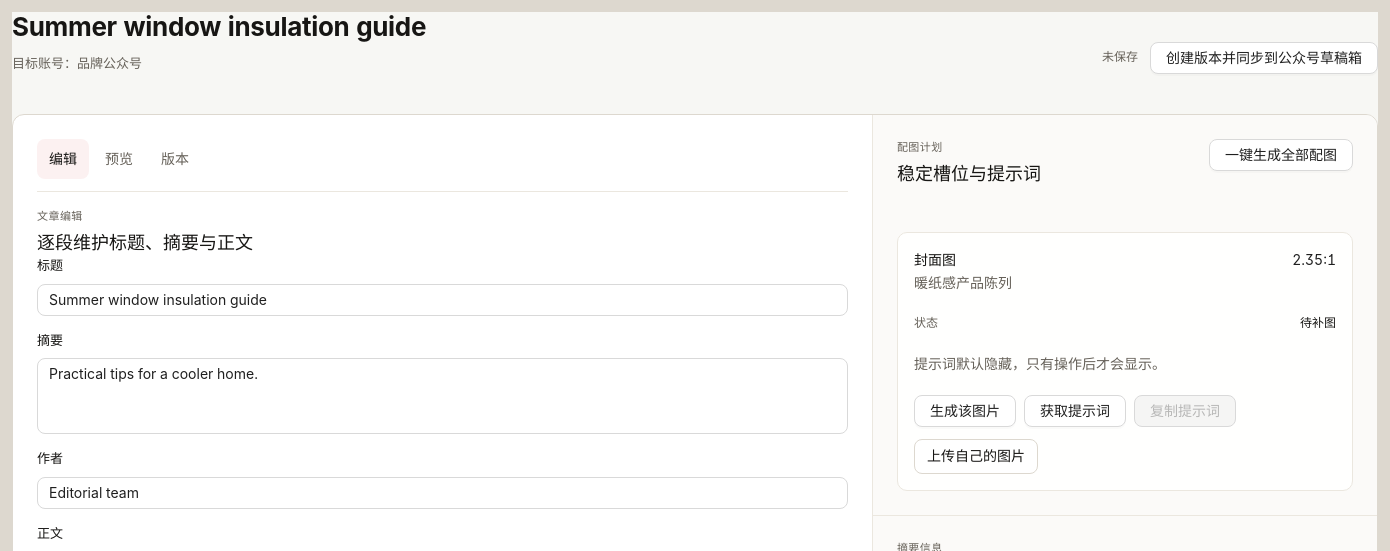
Test: WechatArticleWorkspace › refetches the server copy and restores it when the operator discards local edits after a conflict
Step 1. Replace the text in the field showing "Summer window insulation guide" with "Local draft title" → x=442, y=300, box [37,284,848,316]
Wait 2000 ms
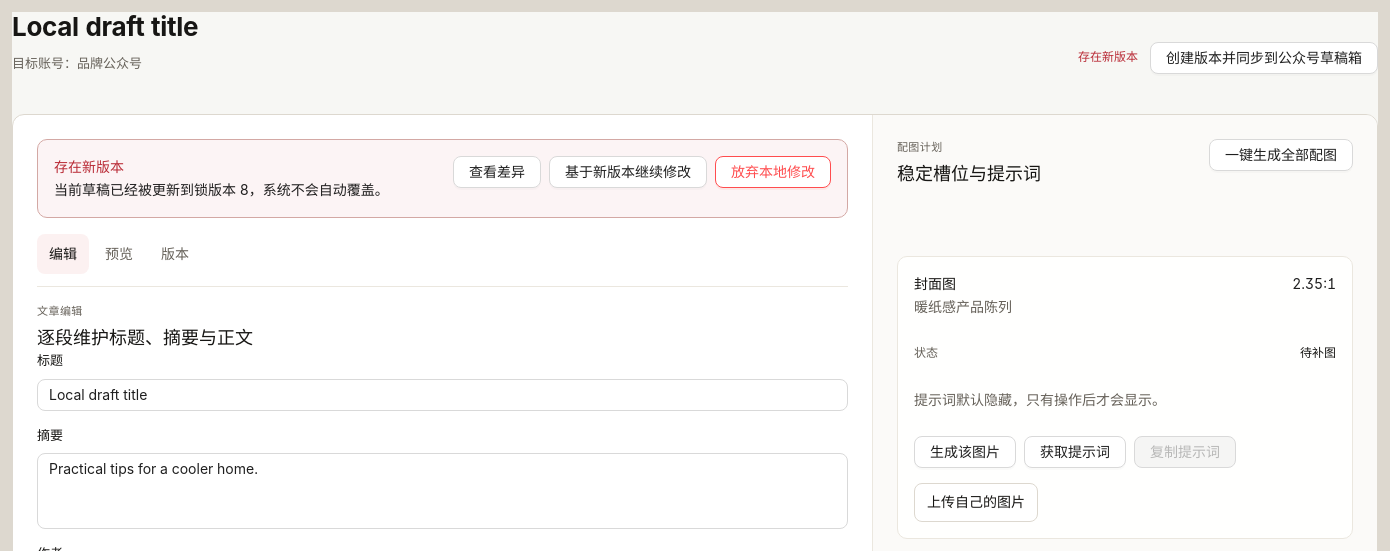
Step 2. Click the button "放弃本地修改" → x=773, y=172, box [715,156,831,188]
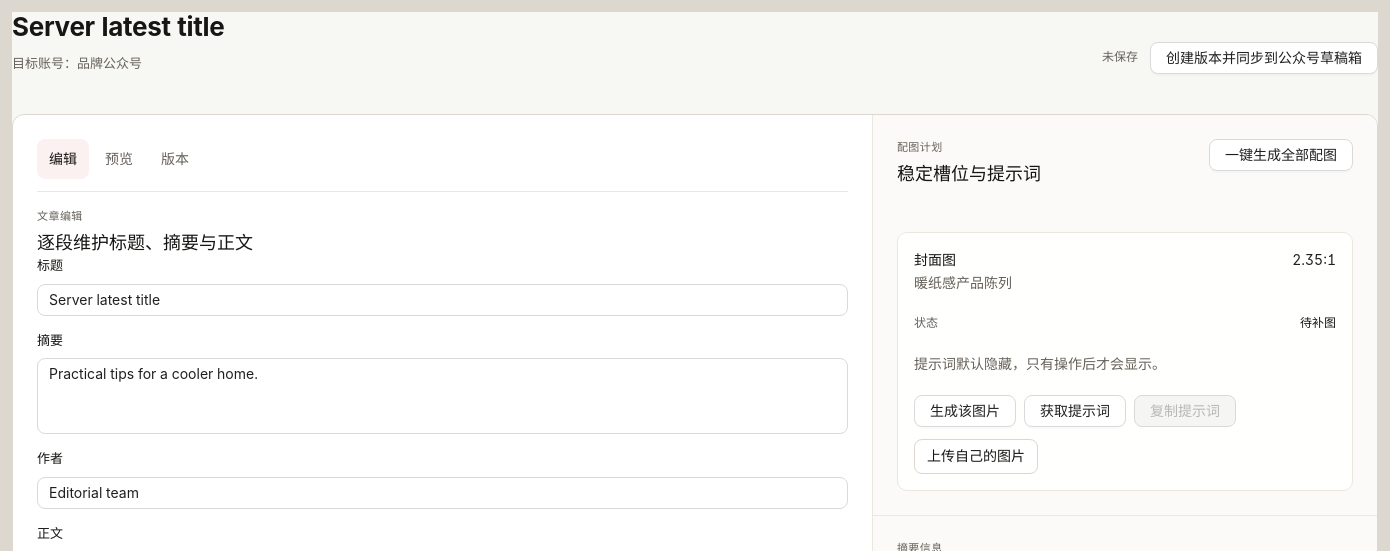
Check: the field showing "Server latest title" is shown, box [37,284,848,316]
Check: the text "存在新版本" is gone
